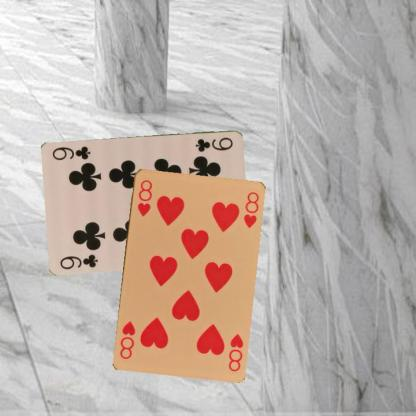8h: (226, 330, 244, 373), (135, 177, 153, 217)
9c: (193, 134, 235, 153), (58, 252, 100, 270)
